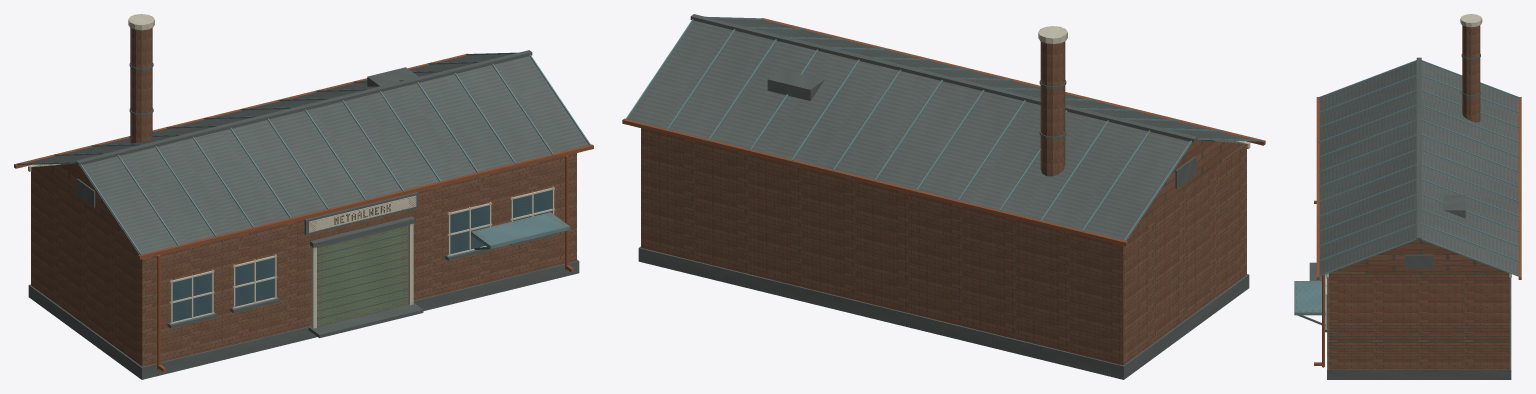
The model's file is BackdropBrickWorkshop.fbx.
3 renders of one model, left to right at view 1: azimuth 30°, elevation 25°; view 2: azimuth 150°, elevation 25°; view 3: azimuth 270°, elevation 25°, orthographic. The views are drawn at different scales.
Parts seen in each view (by area): view 1: BackdropBrickWorkshop; view 2: BackdropBrickWorkshop; view 3: BackdropBrickWorkshop.
Boxes of the visible parts, x1,y1,x2,y2 form: BackdropBrickWorkshop: [14, 14, 593, 379]; BackdropBrickWorkshop: [622, 14, 1265, 379]; BackdropBrickWorkshop: [1294, 14, 1521, 379].
Bounding box in the file's own units: 1880 × 1084 × 1002.
